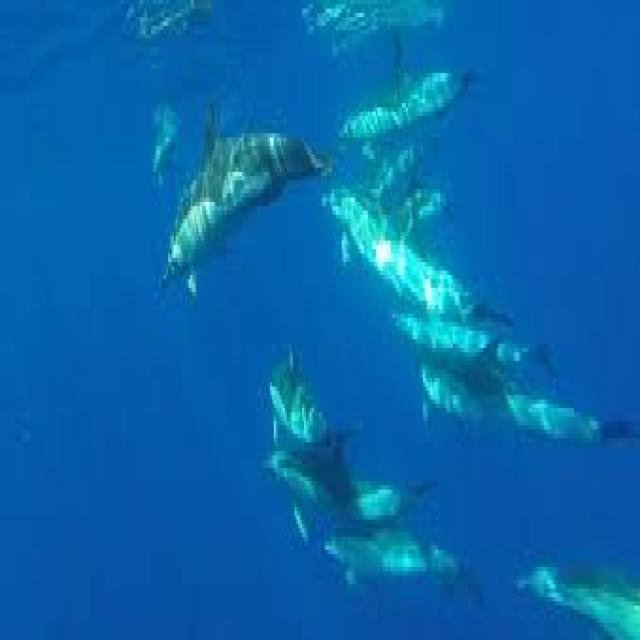dolphin: (142, 64, 317, 318)
